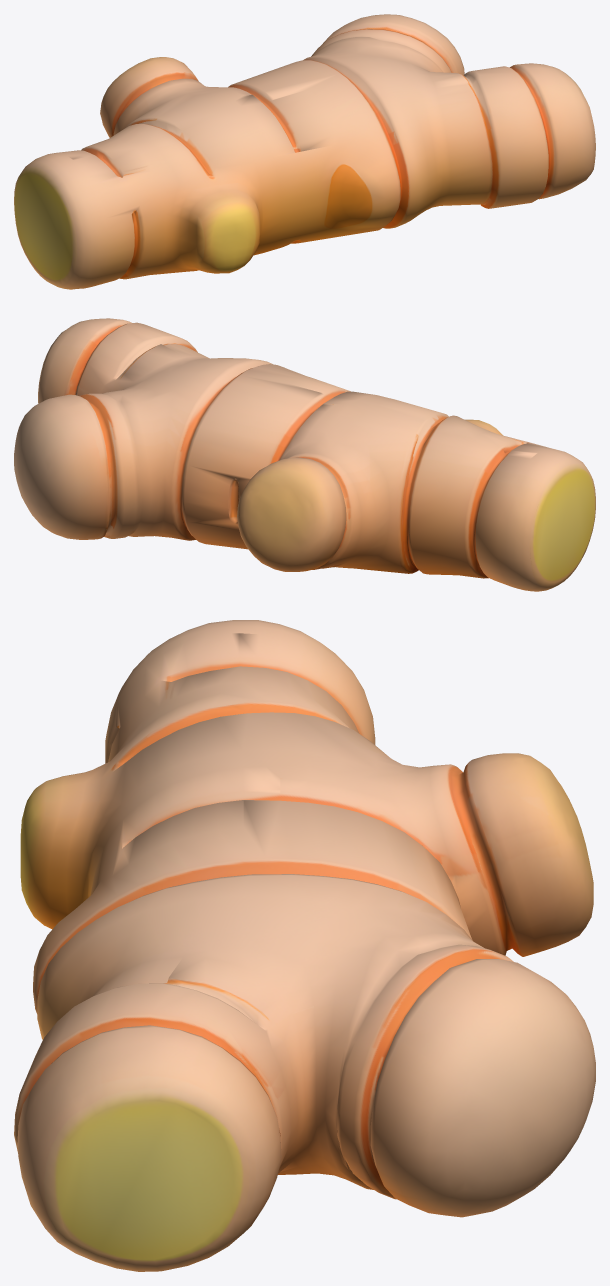
File: Ginger.fbx
3 renders of one model, top to bottom at view 1: azimuth 30°, elevation 25°; view 2: azimuth 150°, elevation 25°; view 3: azimuth 270°, elevation 25°, orthographic. The views are drawn at different scales.
Parts seen in each view (by area): view 1: mesh_input; view 2: mesh_input; view 3: mesh_input.
Boxes of the visible parts, left/top/right/bottom form: mesh_input: left=14, top=14, right=595, bottom=289; mesh_input: left=14, top=318, right=595, bottom=591; mesh_input: left=14, top=620, right=595, bottom=1271.
Size of the model in its own units: 190 by 52.73 by 102.
Materials: 1 (1 with a texture image).
